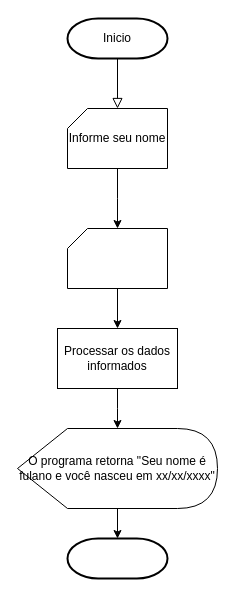
This 235x596 diagram has some shape labels left out. The shapes that lost their labels are listed below. From the top down, each one's centre as x and y in pixels, then its label:
At [117,258]: "Informe sua data de nascimento".
At [117,558]: "Fim".
